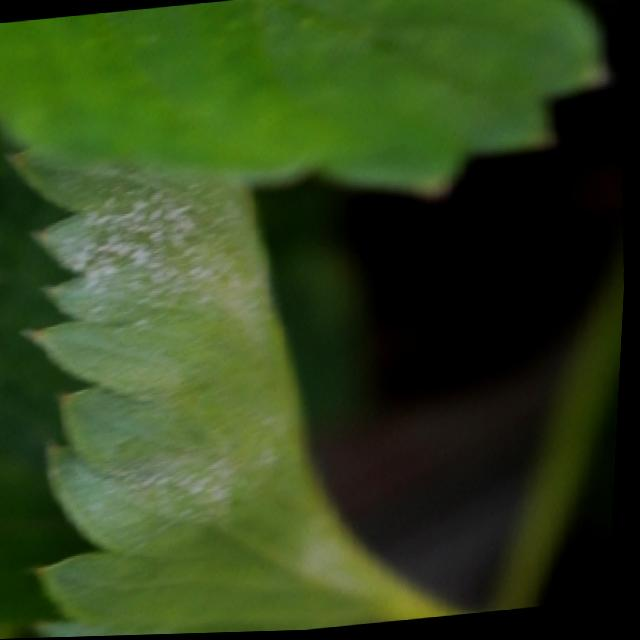Powdery Mildew Leaf: (0, 124, 455, 638)
